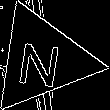N_N: (17, 31, 67, 88)
